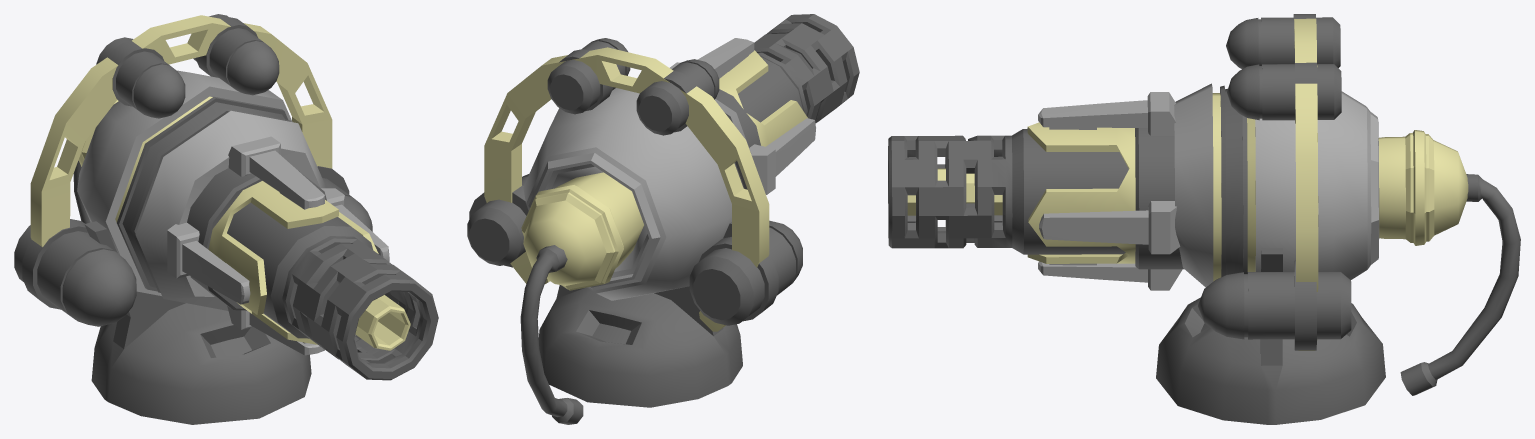
File: Shotgun_Cannon.fbx
3 renders of one model, left to right at view 1: azimuth 30°, elevation 25°; view 2: azimuth 150°, elevation 25°; view 3: azimuth 270°, elevation 25°, orthographic. The views are drawn at different scales.
Parts seen in each view (by area): view 1: pCylinder485, pCylinder483, pCylinder498, pCylinder493, pCylinder492, pCylinder477, pCylinder491, pCylinder494, pCube99, pCube100, pCylinder484, pCube101 (+2 smaller); view 2: pCylinder485, pCylinder498, pCylinder493, pCylinder495, pCylinder483, pCylinder492, pCylinder500, pCylinder491, pCylinder489, pCylinder494, pCylinder477, pCube99 (+1 smaller); view 3: pCylinder485, pCylinder483, pCylinder498, pCylinder489, pCylinder495, pCylinder477, pCylinder493, pCylinder500, pCylinder494, pCube98, pCylinder491, pCube100 (+2 smaller).
Part boxes in pixels (<box>): pCylinder485: <box>77,70,326,310</box>; pCylinder483: <box>187,168,438,380</box>; pCylinder498: <box>84,221,311,424</box>; pCylinder493: <box>30,15,332,247</box>; pCylinder492: <box>14,219,136,326</box>; pCylinder477: <box>208,181,378,344</box>; pCylinder491: <box>96,37,185,118</box>; pCylinder494: <box>193,14,279,95</box>; pCube99: <box>167,222,250,304</box>; pCube100: <box>228,136,324,209</box>; pCylinder484: <box>355,295,410,350</box>; pCube101: <box>227,306,324,355</box>; pCylinder485: <box>523,88,757,300</box>; pCylinder498: <box>538,222,742,407</box>; pCylinder493: <box>484,47,769,331</box>; pCylinder495: <box>521,172,643,290</box>; pCylinder483: <box>715,14,859,147</box>; pCylinder492: <box>689,220,802,325</box>; pCylinder500: <box>520,245,583,424</box>; pCylinder491: <box>636,59,719,135</box>; pCylinder489: <box>467,174,528,267</box>; pCylinder494: <box>547,38,630,114</box>; pCylinder477: <box>719,50,807,146</box>; pCube99: <box>749,118,815,194</box>; pCylinder485: <box>1174,83,1379,287</box>; pCylinder483: <box>888,128,1183,269</box>; pCylinder498: <box>1156,248,1385,424</box>; pCylinder489: <box>1198,260,1351,350</box>; pCylinder495: <box>1378,130,1468,245</box>; pCylinder477: <box>1027,122,1135,263</box>; pCylinder493: <box>1294,18,1318,350</box>; pCylinder500: <box>1400,174,1520,395</box>; pCylinder494: <box>1227,61,1341,123</box>; pCube98: <box>1039,201,1180,254</box>; pCylinder491: <box>1226,14,1340,68</box>; pCube100: <box>1038,92,1176,135</box>.
Size of the model in its own units: 37.83 by 40.35 by 64.51.
